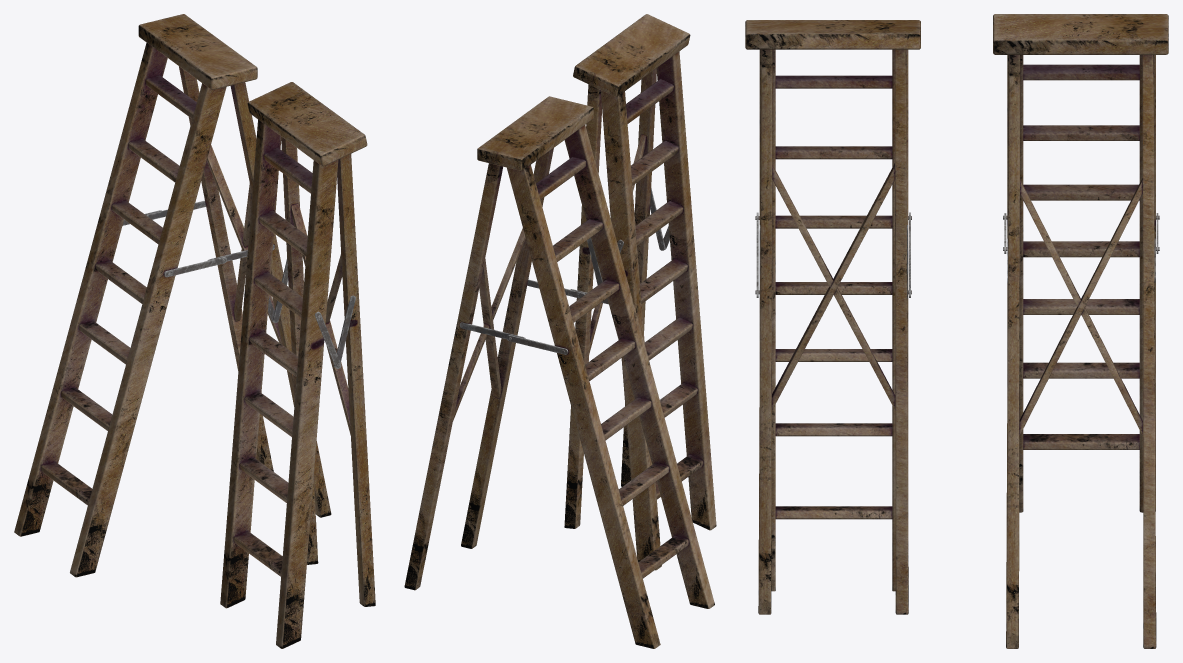
The model's file is old_wooden_ladder.glb.
3 renders of one model, left to right at view 1: azimuth 30°, elevation 25°; view 2: azimuth 150°, elevation 25°; view 3: azimuth 270°, elevation 25°, orthographic. The views are drawn at different scales.
Parts seen in each view (by area): view 1: Object_2, Object_3; view 2: Object_2, Object_3; view 3: Object_2, Object_3.
Boxes of the visible parts, <box> form: Object_2: <box>14,14,375,648</box>; Object_3: <box>122,200,355,368</box>; Object_2: <box>404,14,716,648</box>; Object_3: <box>460,188,669,354</box>; Object_2: <box>745,14,1168,648</box>; Object_3: <box>755,212,1159,298</box>.
Bounding box in the file's own units: 11.86 × 22.17 × 14.27.
Materials: 2 (2 with a texture image).
